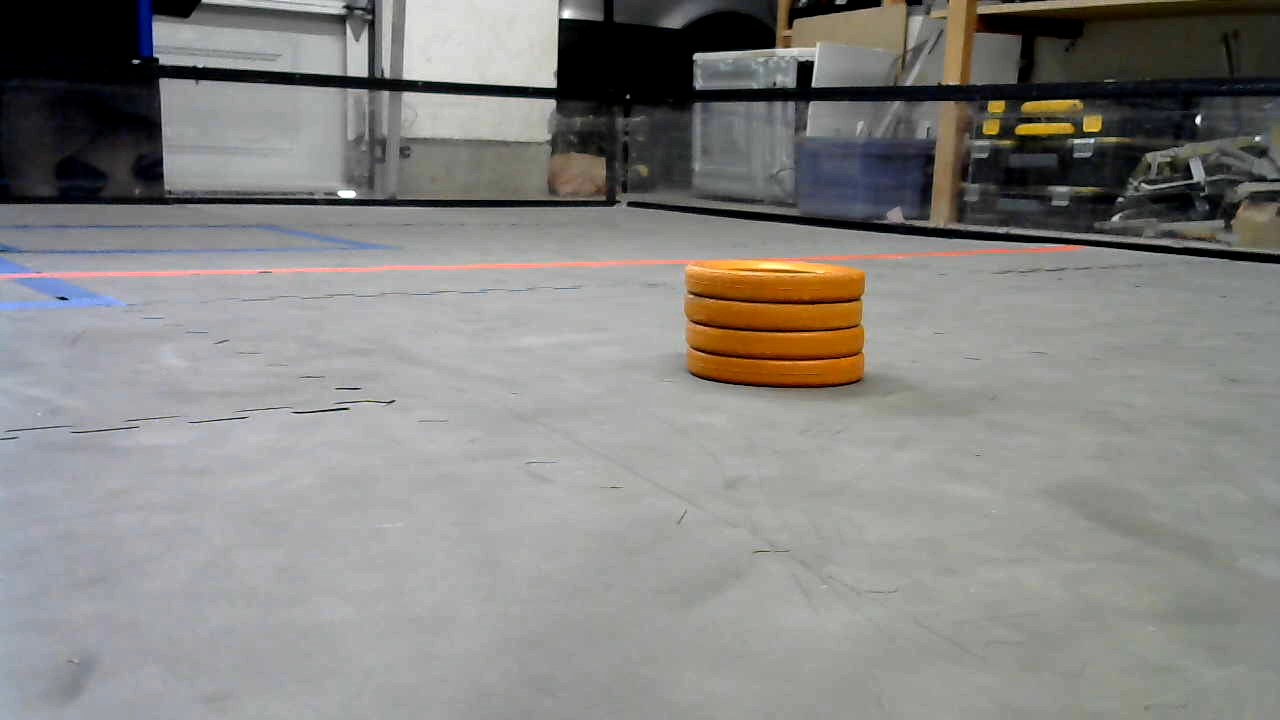FourStack: (686, 258, 868, 389)
